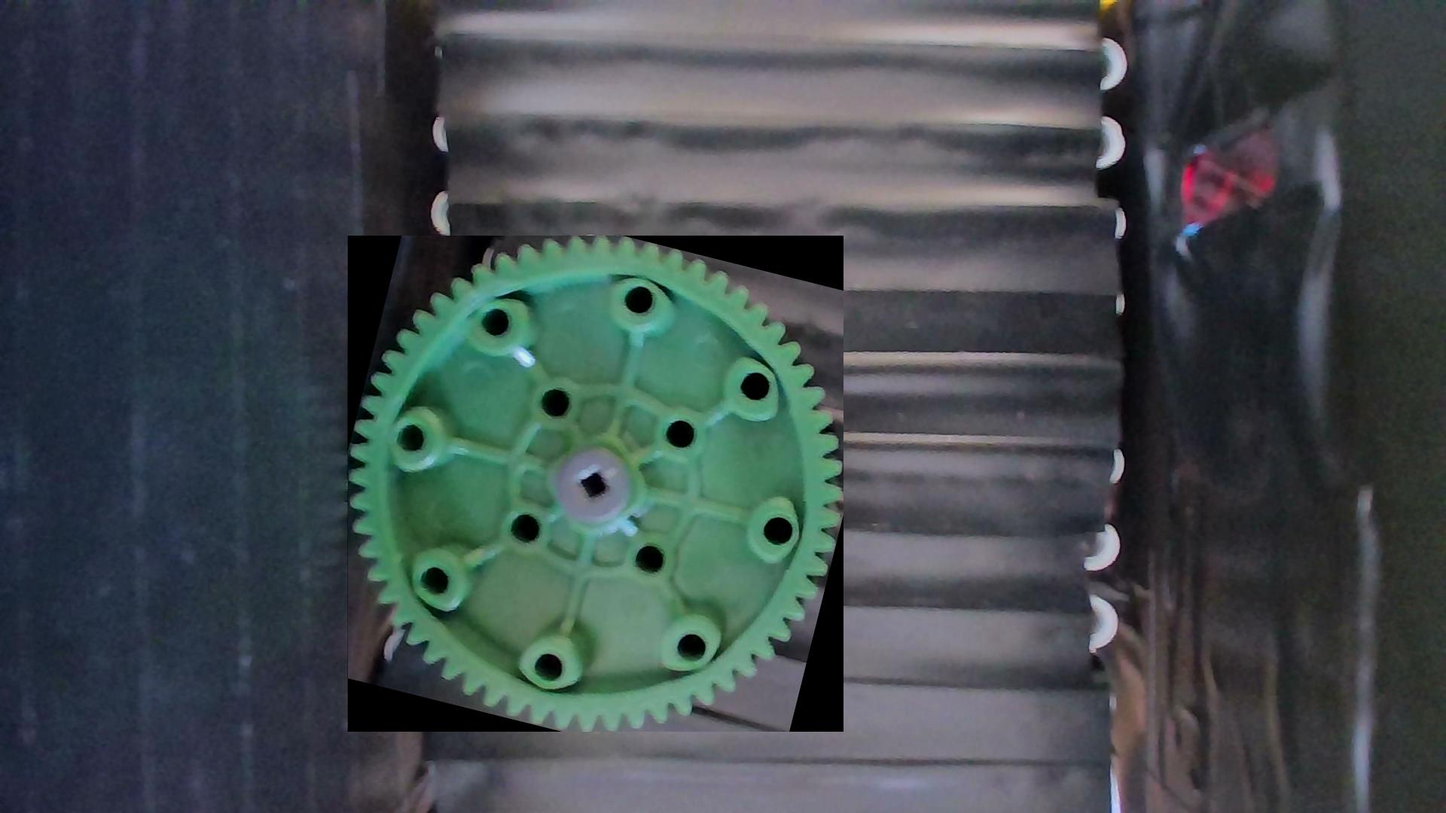gear: (346, 236, 843, 732)
